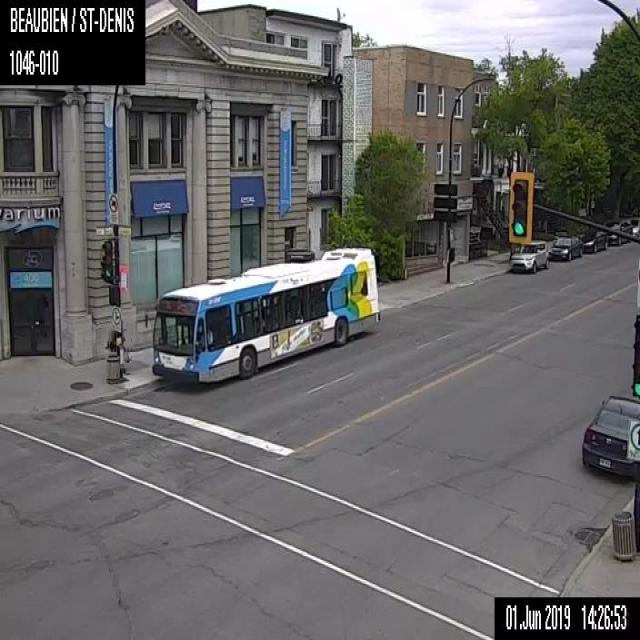bus: (143, 244, 381, 384)
vehicle: (580, 392, 639, 480), (508, 238, 549, 274), (548, 235, 582, 261), (602, 218, 632, 245), (581, 228, 607, 252)
